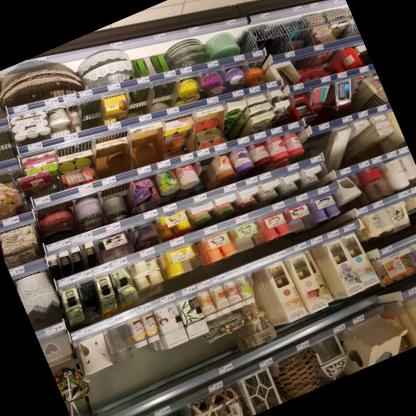empty_space: (126, 127, 168, 167), (93, 143, 133, 178), (150, 79, 185, 111), (77, 98, 111, 130), (304, 128, 336, 158), (125, 87, 157, 115), (294, 46, 332, 69), (0, 130, 16, 170)
